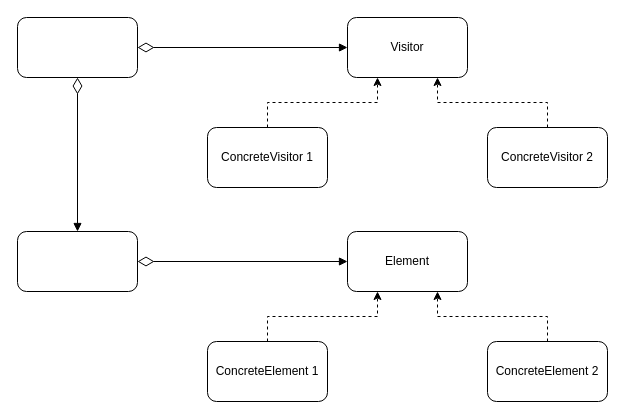
Some shapes in this 625 by 419 pixel diagram are drawn without their labels. The centre of each missing label's shape, as x and y in pixels:
Client: point 77,47
ObjectStructure: point 77,261
